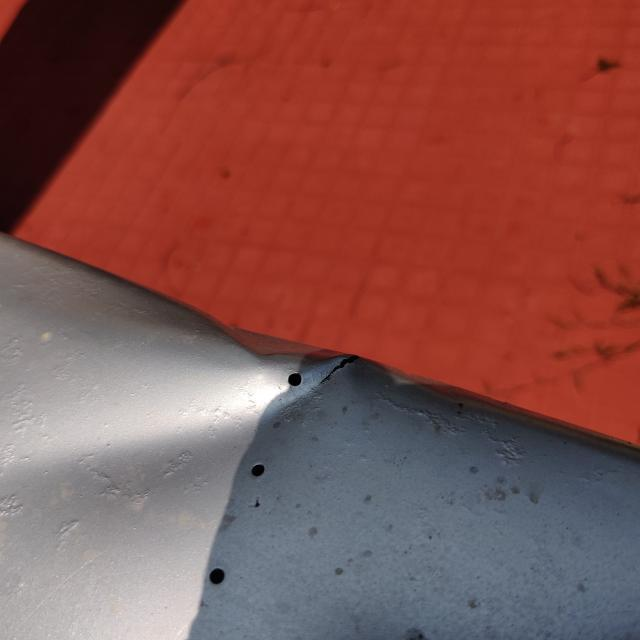crack: (312, 333, 370, 397)
dent: (30, 233, 378, 512)
